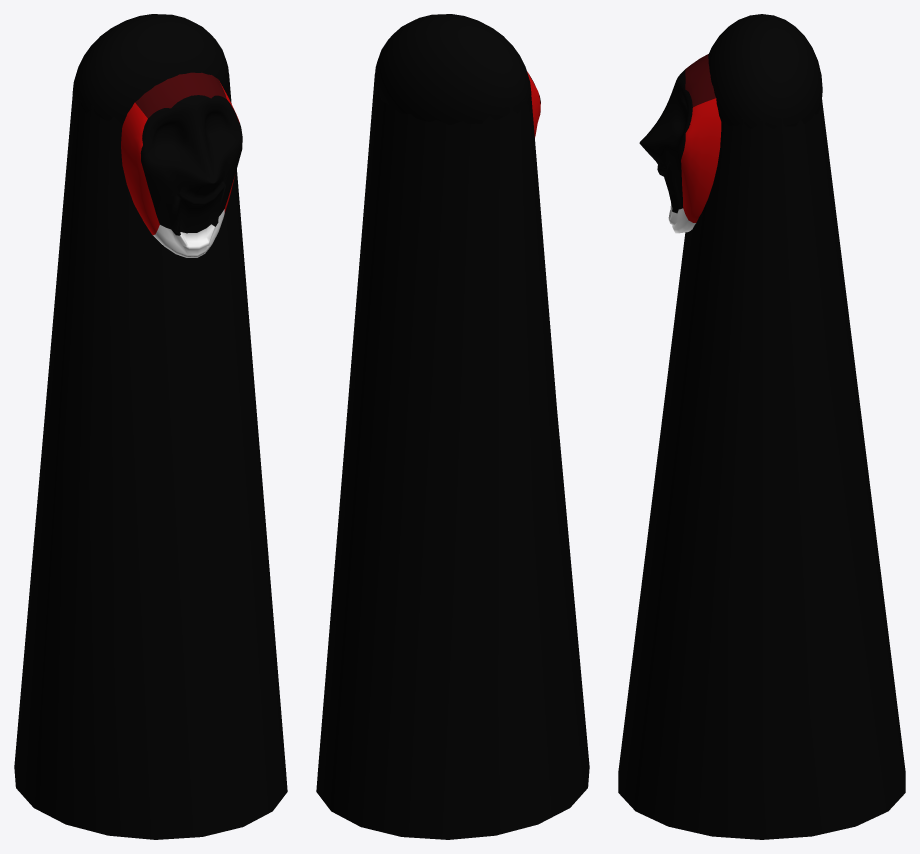
3 renders of one model, left to right at view 1: azimuth 30°, elevation 25°; view 2: azimuth 150°, elevation 25°; view 3: azimuth 270°, elevation 25°, orthographic.
Visible parts, largest first — view 1: Cylinder001, Box001, Sphere001; view 2: Cylinder001, Sphere001; view 3: Cylinder001, Sphere001, Box001.
Boxes of the visible parts, x1=… form: Cylinder001: x1=14, y1=74, x2=287, y2=839; Box001: x1=121, y1=72, x2=242, y2=257; Sphere001: x1=72, y1=14, x2=229, y2=124; Cylinder001: x1=316, y1=74, x2=589, y2=839; Sphere001: x1=374, y1=14, x2=531, y2=124; Cylinder001: x1=618, y1=100, x2=905, y2=839; Sphere001: x1=708, y1=14, x2=822, y2=129; Box001: x1=639, y1=54, x2=721, y2=233.
Size of the model in its own units: 35.23 by 109 by 37.42.
